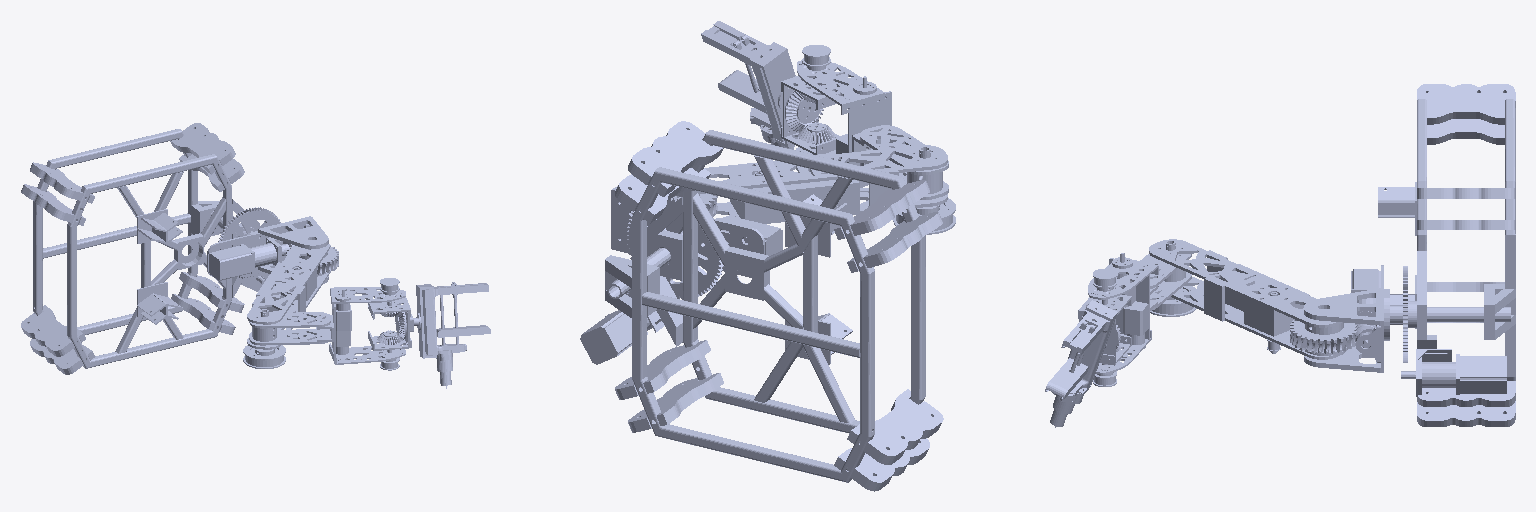
robot.urdf — ARM YPR GRIPPER_final:
<?xml version="1.0" encoding="utf-8"?>
<!-- This URDF was automatically created by SolidWorks to URDF Exporter! Originally created by [author] ([email redacted]) 
     Commit Version: 1.6.0-4-g7f85cfe  Build Version: 1.6.7995.38578
     For more information, please see http://wiki.ros.org/sw_urdf_exporter -->
<robot
  name="ARM YPR GRIPPER_final">
  <link
    name="base_link">
    <inertial>
      <origin
        xyz="1.1158 -0.23061 0.10773"
        rpy="0 0 0" />
      <mass
        value="4.0876" />
      <inertia
        ixx="0.01519"
        ixy="-0.00058927"
        ixz="-0.00029846"
        iyy="0.013474"
        iyz="-0.0016839"
        izz="0.011351" />
    </inertial>
    <visual>
      <origin
        xyz="0 0 0"
        rpy="0 0 0" />
      <geometry>
        <mesh
          filename="package://ARM YPR GRIPPER_final/meshes/base_link.STL" />
      </geometry>
      <material
        name="">
        <color
          rgba="0.79216 0.81961 0.93333 1" />
      </material>
    </visual>
    <collision>
      <origin
        xyz="0 0 0"
        rpy="0 0 0" />
      <geometry>
        <mesh
          filename="package://ARM YPR GRIPPER_final/meshes/base_link.STL" />
      </geometry>
    </collision>
  </link>
  <link
    name="turntable">
    <inertial>
      <origin
        xyz="-0.0022543 -0.0091992 0.00092136"
        rpy="0 0 0" />
      <mass
        value="2.5424" />
      <inertia
        ixx="0.0059966"
        ixy="1.3976E-05"
        ixz="-0.0010953"
        iyy="0.009303"
        iyz="1.9175E-05"
        izz="0.0052907" />
    </inertial>
    <visual>
      <origin
        xyz="0 0 0"
        rpy="0 0 0" />
      <geometry>
        <mesh
          filename="package://ARM YPR GRIPPER_final/meshes/turntable.STL" />
      </geometry>
      <material
        name="">
        <color
          rgba="0.79216 0.81961 0.93333 1" />
      </material>
    </visual>
    <collision>
      <origin
        xyz="0 0 0"
        rpy="0 0 0" />
      <geometry>
        <mesh
          filename="package://ARM YPR GRIPPER_final/meshes/turntable.STL" />
      </geometry>
    </collision>
  </link>
  <joint
    name="turntable"
    type="revolute">
    <origin
      xyz="1.3062 -0.232 -0.21244"
      rpy="0 0.94126 0" />
    <parent
      link="base_link" />
    <child
      link="turntable" />
    <axis
      xyz="0 0 0" />
    <limit
      lower="0"
      upper="0"
      effort="0"
      velocity="0" />
  </joint>
  <link
    name="link1">
    <inertial>
      <origin
        xyz="-0.0017673 -0.10544 0.12039"
        rpy="0 0 0" />
      <mass
        value="2.6849" />
      <inertia
        ixx="0.027624"
        ixy="-3.6535E-08"
        ixz="-5.7059E-07"
        iyy="0.015039"
        iyz="0.012093"
        izz="0.013381" />
    </inertial>
    <visual>
      <origin
        xyz="0 0 0"
        rpy="0 0 0" />
      <geometry>
        <mesh
          filename="package://ARM YPR GRIPPER_final/meshes/link1.STL" />
      </geometry>
      <material
        name="">
        <color
          rgba="0.79216 0.81961 0.93333 1" />
      </material>
    </visual>
    <collision>
      <origin
        xyz="0 0 0"
        rpy="0 0 0" />
      <geometry>
        <mesh
          filename="package://ARM YPR GRIPPER_final/meshes/link1.STL" />
      </geometry>
    </collision>
  </link>
  <joint
    name="pitch1"
    type="revolute">
    <origin
      xyz="0.050075 -0.13572 0.068746"
      rpy="3.1416 -0.62954 3.1416" />
    <parent
      link="turntable" />
    <child
      link="link1" />
    <axis
      xyz="0 0 0" />
    <limit
      lower="0"
      upper="0"
      effort="0"
      velocity="0" />
  </joint>
  <link
    name="link2">
    <inertial>
      <origin
        xyz="-0.065297 -0.06134 -0.062592"
        rpy="0 0 0" />
      <mass
        value="1.7567" />
      <inertia
        ixx="0.0021053"
        ixy="-0.00084408"
        ixz="1.9537E-06"
        iyy="0.0021881"
        iyz="-2.2194E-06"
        izz="0.0031785" />
    </inertial>
    <visual>
      <origin
        xyz="0 0 0"
        rpy="0 0 0" />
      <geometry>
        <mesh
          filename="package://ARM YPR GRIPPER_final/meshes/link2.STL" />
      </geometry>
      <material
        name="">
        <color
          rgba="0.79216 0.81961 0.93333 1" />
      </material>
    </visual>
    <collision>
      <origin
        xyz="0 0 0"
        rpy="0 0 0" />
      <geometry>
        <mesh
          filename="package://ARM YPR GRIPPER_final/meshes/link2.STL" />
      </geometry>
    </collision>
  </link>
  <joint
    name="pitch2"
    type="revolute">
    <origin
      xyz="-0.081 -0.29511 0.30583"
      rpy="1.5708 -1.2551 -1.5708" />
    <parent
      link="link1" />
    <child
      link="link2" />
    <axis
      xyz="0 0 0" />
    <limit
      lower="0"
      upper="0"
      effort="0"
      velocity="0" />
  </joint>
  <link
    name="diff1">
    <inertial>
      <origin
        xyz="0.0109382099583939 0.00957258582622034 -0.026521169540422"
        rpy="0 0 0" />
      <mass
        value="0.33528217156502" />
      <inertia
        ixx="0.000161675075433288"
        ixy="-3.54903506064264E-06"
        ixz="-6.26704594681186E-09"
        iyy="0.00016269827854076"
        iyz="-5.38898779763631E-08"
        izz="0.000191395537992294" />
    </inertial>
    <visual>
      <origin
        xyz="0 0 0"
        rpy="0 0 0" />
      <geometry>
        <mesh
          filename="package://ARM YPR GRIPPER_final/meshes/diff1.STL" />
      </geometry>
      <material
        name="">
        <color
          rgba="0.792156862745098 0.819607843137255 0.933333333333333 1" />
      </material>
    </visual>
    <collision>
      <origin
        xyz="0 0 0"
        rpy="0 0 0" />
      <geometry>
        <mesh
          filename="package://ARM YPR GRIPPER_final/meshes/diff1.STL" />
      </geometry>
    </collision>
  </link>
  <joint
    name="pitch"
    type="revolute">
    <origin
      xyz="-0.22864 -0.20765 -0.10663"
      rpy="-3.1416 0 -1.75" />
    <parent
      link="link2" />
    <child
      link="diff1" />
    <axis
      xyz="0 0 0" />
    <limit
      lower="0"
      upper="0"
      effort="0"
      velocity="0" />
  </joint>
  <link
    name="diff 2">
    <inertial>
      <origin
        xyz="0.10385172028883 -0.0273995553766081 0.0432003762865905"
        rpy="0 0 0" />
      <mass
        value="0.506456964845603" />
      <inertia
        ixx="0.000539714222855349"
        ixy="-9.41752625928122E-08"
        ixz="5.83688632010772E-05"
        iyy="0.000996080553542825"
        iyz="4.95008726752042E-07"
        izz="0.000668136326030563" />
    </inertial>
    <visual>
      <origin
        xyz="0 0 0"
        rpy="0 0 0" />
      <geometry>
        <mesh
          filename="package://ARM YPR GRIPPER_final/meshes/diff 2.STL" />
      </geometry>
      <material
        name="">
        <color
          rgba="0.792156862745098 0.819607843137255 0.933333333333333 1" />
      </material>
    </visual>
    <collision>
      <origin
        xyz="0 0 0"
        rpy="0 0 0" />
      <geometry>
        <mesh
          filename="package://ARM YPR GRIPPER_final/meshes/diff 2.STL" />
      </geometry>
    </collision>
  </link>
  <joint
    name="yprroll"
    type="revolute">
    <origin
      xyz="0.019826 0.089558 0.048964"
      rpy="-1.5708 1.25 -0.84529" />
    <parent
      link="diff1" />
    <child
      link="diff 2" />
    <axis
      xyz="0 0 0" />
    <limit
      lower="0"
      upper="0"
      effort="0"
      velocity="0" />
  </joint>
  <link
    name="claw">
    <inertial>
      <origin
        xyz="-0.0220450281552929 0.000677446241040491 -0.00694976128210933"
        rpy="0 0 0" />
      <mass
        value="0.07860390706417" />
      <inertia
        ixx="1.38766656267504E-05"
        ixy="1.71990039939986E-18"
        ixz="2.23797026425882E-06"
        iyy="0.00011053677728713"
        iyz="-1.54159996400283E-19"
        izz="0.000120815114532477" />
    </inertial>
    <visual>
      <origin
        xyz="0 0 0"
        rpy="0 0 0" />
      <geometry>
        <mesh
          filename="package://ARM YPR GRIPPER_final/meshes/claw.STL" />
      </geometry>
      <material
        name="">
        <color
          rgba="0.792156862745098 0.819607843137255 0.933333333333333 1" />
      </material>
    </visual>
    <collision>
      <origin
        xyz="0 0 0"
        rpy="0 0 0" />
      <geometry>
        <mesh
          filename="package://ARM YPR GRIPPER_final/meshes/claw.STL" />
      </geometry>
    </collision>
  </link>
  <joint
    name="claw"
    type="prismatic">
    <origin
      xyz="0.12531 -0.028177 0.12448"
      rpy="3.1416 -1.5708 0" />
    <parent
      link="diff 2" />
    <child
      link="claw" />
    <axis
      xyz="0 0 0" />
    <limit
      lower="0"
      upper="0"
      effort="0"
      velocity="0" />
  </joint>
</robot>

--- What the picture shows (computed from the rendered views, not written in the file) ---
3 views of the same robot in one strip: view 1: azimuth 30°, elevation 25°; view 2: azimuth 150°, elevation 25°; view 3: azimuth 270°, elevation 25° (orthographic).
Model ARM YPR GRIPPER_final with 7 links and 6 joints (5 revolute, 1 prismatic), rooted at base_link, posed all joints at 0.
Visible links, largest first — view 1: base_link, link2, turntable, link1, diff 2, diff1; view 2: base_link, link1, link2, turntable, diff 2, diff1, claw; view 3: base_link, link1, turntable, link2, diff 2, diff1, claw.
Boxes of the visible links, box(x1,y1,x2,y2) form: base_link: box(21, 123, 269, 374); link2: box(243, 287, 405, 368); turntable: box(207, 207, 328, 283); link1: box(247, 240, 338, 349); diff 2: box(416, 282, 488, 388); diff1: box(368, 278, 466, 370); base_link: box(580, 121, 943, 491); link1: box(631, 145, 947, 224); link2: box(796, 60, 955, 234); turntable: box(607, 186, 782, 299); diff 2: box(701, 21, 797, 149); diff1: box(750, 45, 846, 154); claw: box(718, 70, 766, 113); base_link: box(1378, 84, 1515, 426); link1: box(1149, 239, 1375, 359); turntable: box(1304, 265, 1510, 372); link2: box(1088, 240, 1196, 374); diff 2: box(1050, 300, 1117, 427); diff1: box(1060, 269, 1131, 401); claw: box(1045, 358, 1088, 399).
Bounding box of the posed robot: 0.8477 × 0.9056 × 0.5075 m (x, y, z).
Meshes: 7 distinct files referenced, 7 mesh visuals loaded (7 binary STL).